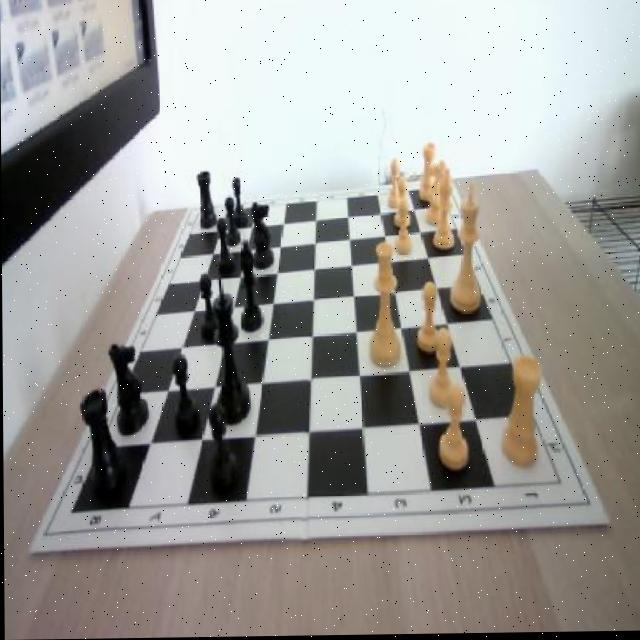bishop: (238, 237, 262, 333)
black-bishop: (211, 285, 251, 423)
black-king: (108, 342, 150, 434), (249, 200, 275, 270)
black-knight: (206, 407, 237, 494), (173, 351, 199, 437), (199, 271, 222, 342), (217, 221, 234, 276), (231, 179, 247, 231), (224, 197, 240, 246)
black-queen: (81, 389, 124, 504), (198, 171, 217, 229)
black-rook: (432, 170, 454, 249)
white-bishop: (450, 182, 482, 312)
white-king: (425, 159, 449, 230)
white-knight: (437, 386, 470, 475), (423, 330, 453, 413), (416, 281, 442, 353), (393, 200, 412, 256), (394, 177, 409, 230), (388, 158, 401, 208)
white-pawn: (367, 240, 402, 369)
white-queen: (501, 356, 543, 469), (418, 144, 436, 204)
